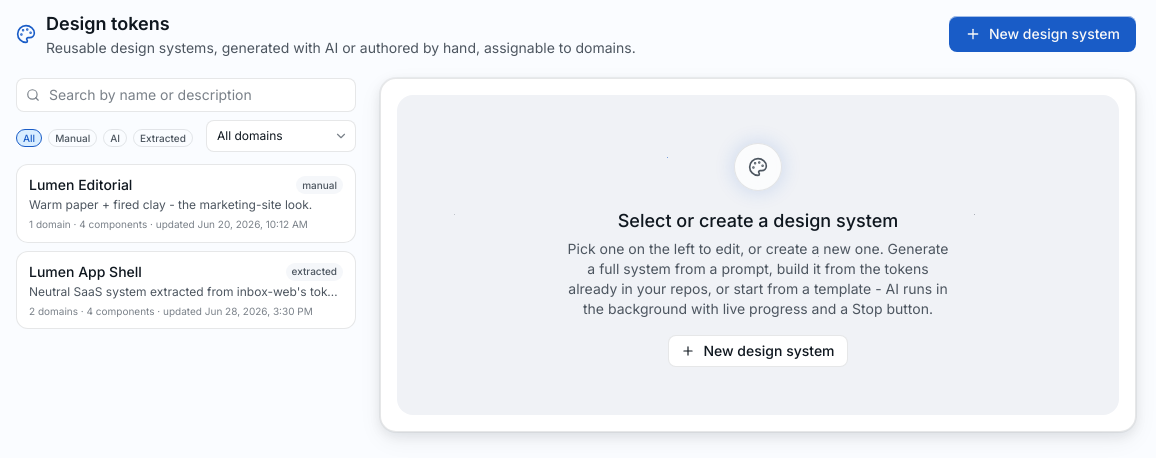
DesignTokensPage › filters the list by origin chips
Expected: the text "Lumen Editorial" is shown, [29,175,132,195]
Click the button "Manual".
click(73, 136)  # box [48,124,97,148]
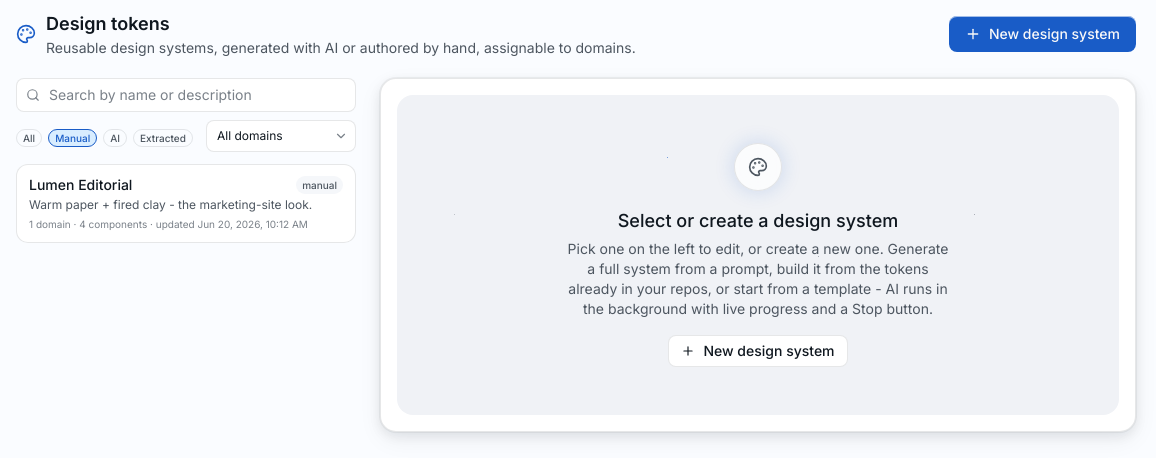
Expected: the text "Lumen Editorial" is shown, [29,175,132,195]
Expected: the button "Lumen App Shell" is gone
Click the button "All".
click(29, 136)  # box [16,124,42,148]
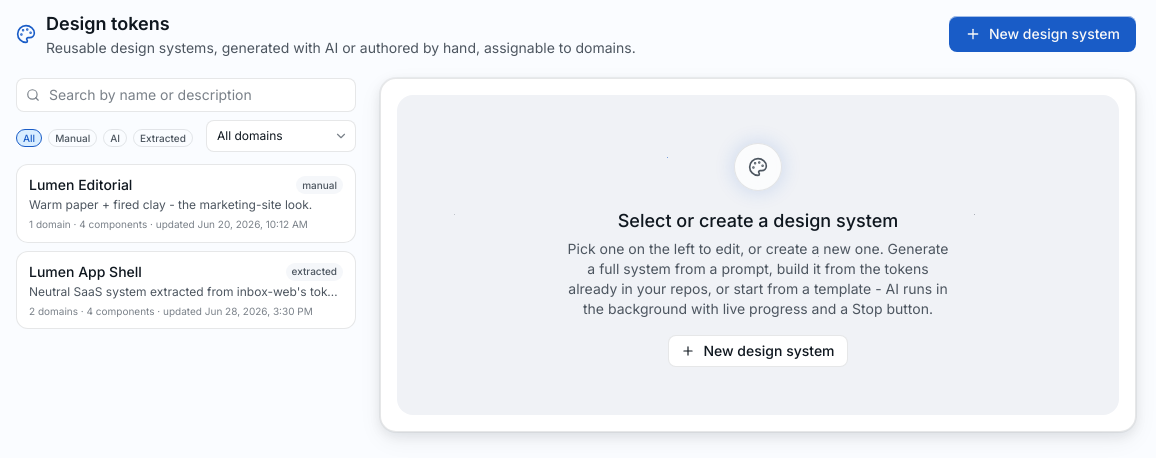
Expected: the text "Lumen App Shell" is shown, [29,262,142,282]
